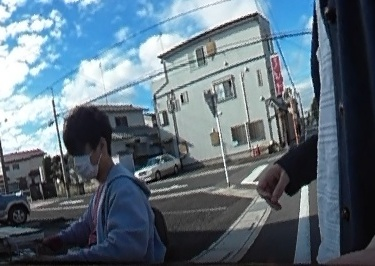person: (32, 104, 169, 266)
